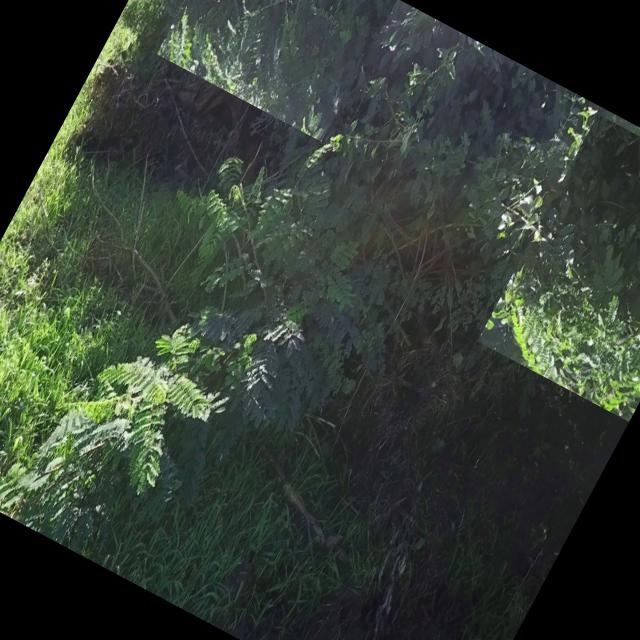Mysore-Thorn-Weed: (1, 108, 427, 606), (477, 114, 640, 422), (156, 0, 397, 141)
